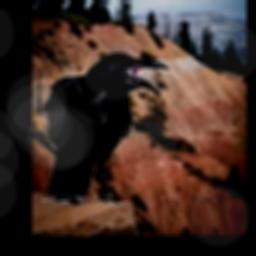Crow: (38, 51, 168, 195)
